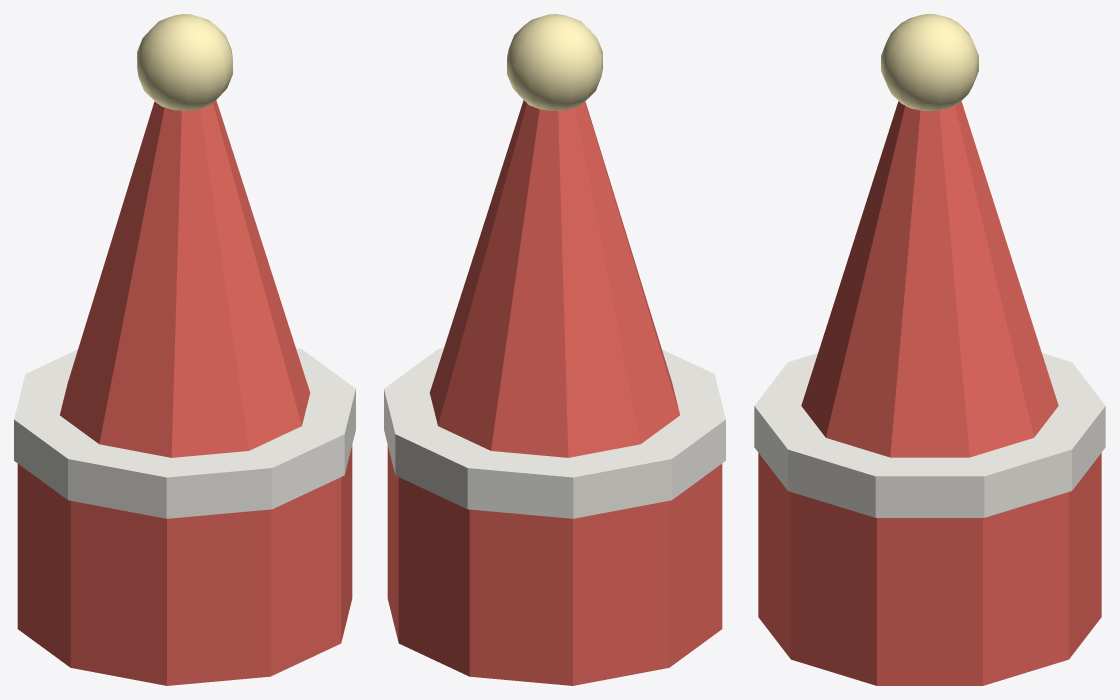
The model's file is ocean__buoy.fbx.
3 views of the same model, side by side, from view 1: azimuth 30°, elevation 25°; view 2: azimuth 150°, elevation 25°; view 3: azimuth 270°, elevation 25° (orthographic).
Visible parts, largest first — view 1: ocean__buoy; view 2: ocean__buoy; view 3: ocean__buoy.
Boxes of the visible parts, x1,y1,x2,y2 form: ocean__buoy: (14, 14, 355, 685); ocean__buoy: (384, 14, 725, 685); ocean__buoy: (754, 14, 1105, 685).
Size of the model in its own units: 0.875 by 1.73 by 0.92.
